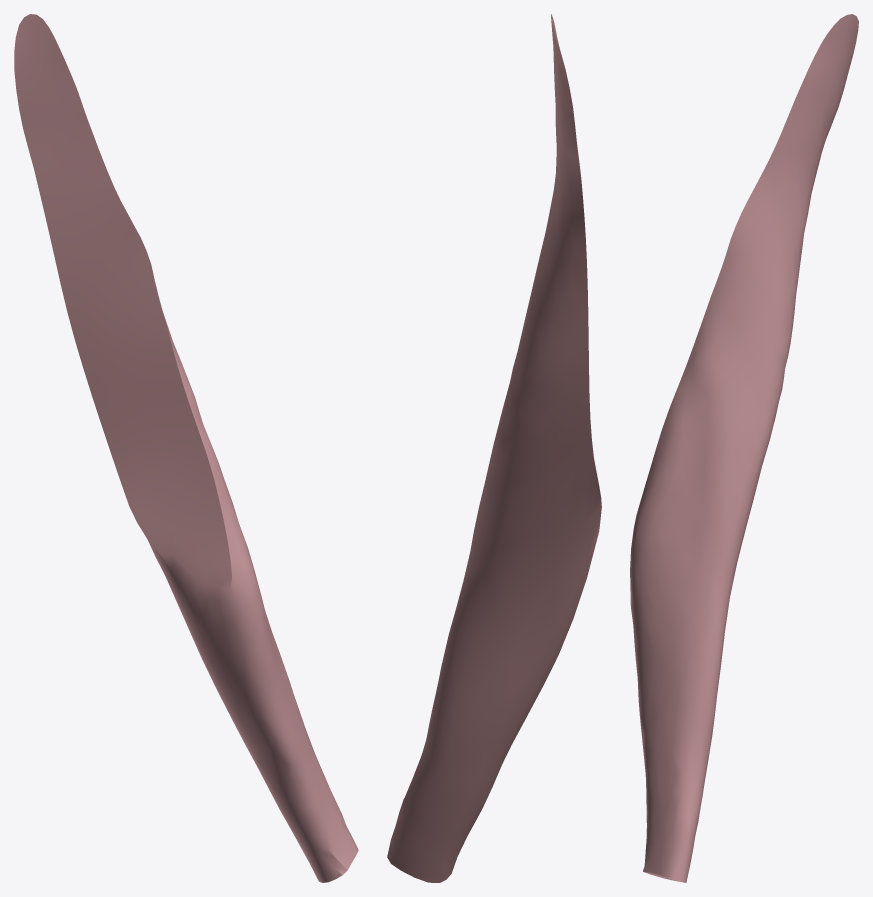
File: fma297806_mm1855m.glb
3 views of the same model, side by side, from view 1: azimuth 30°, elevation 25°; view 2: azimuth 150°, elevation 25°; view 3: azimuth 270°, elevation 25° (orthographic). The views are drawn at different scales.
Visible parts, largest first — view 1: FMA297806_MM1855M; view 2: FMA297806_MM1855M; view 3: FMA297806_MM1855M.
Boxes of the visible parts, x1=… form: FMA297806_MM1855M: x1=14, y1=14, x2=358, y2=882; FMA297806_MM1855M: x1=387, y1=14, x2=601, y2=882; FMA297806_MM1855M: x1=630, y1=14, x2=858, y2=882.
Bounding box in the file's own units: 0.0278 × 0.0902 × 0.024.
